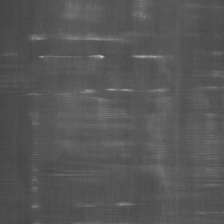waist_folding: (23, 11, 201, 221)
